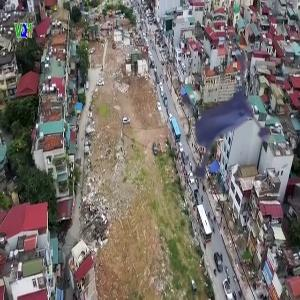drone: (151, 66, 299, 214)
